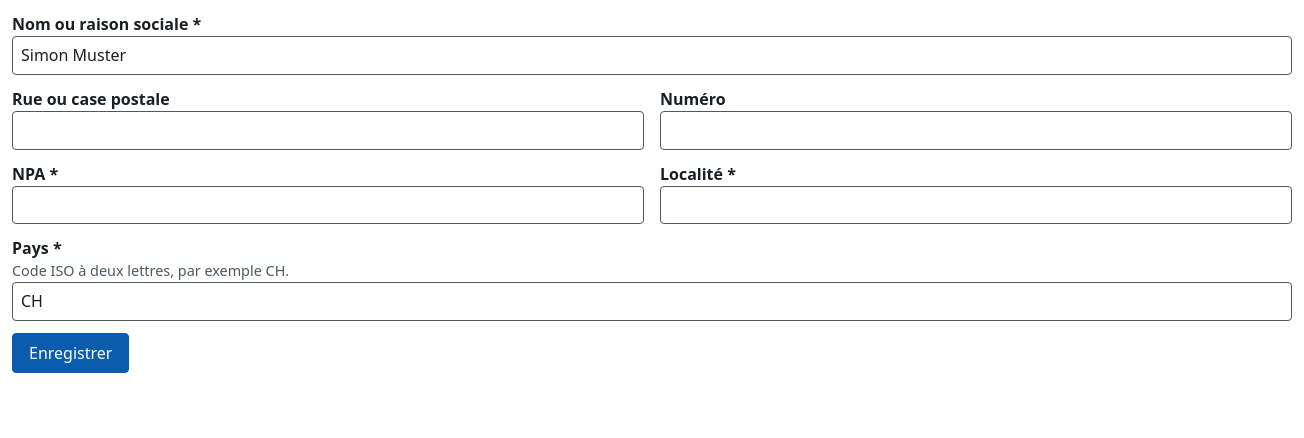
CustomerForm › announces an error that names no field of the form in its alert
This screenshot has width=1304, height=438.
What coordinates should you click on to do the following:
click the button "Enregistrer"
I would click on:
 (71, 353)
Its box is [12, 333, 129, 373].
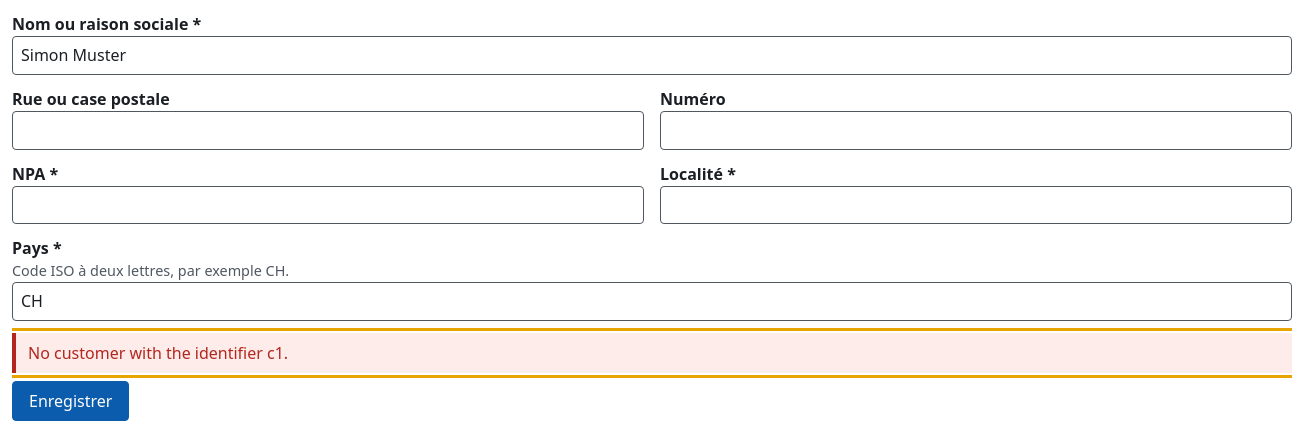
Now the message reads "No customer with the identifier c1.", box [28, 342, 288, 364]
